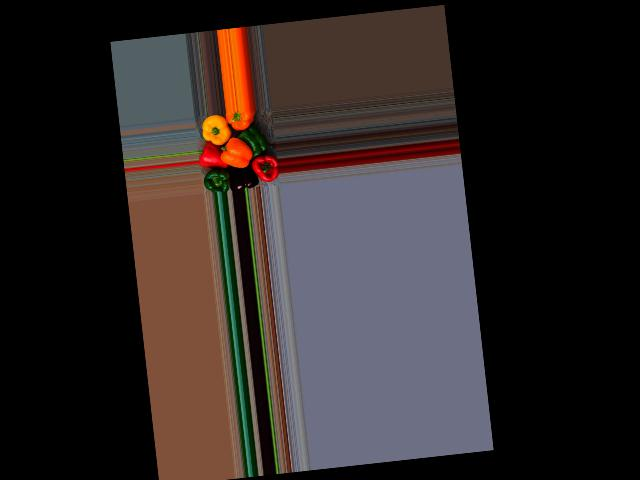bell_pepper: (226, 109, 265, 138)
